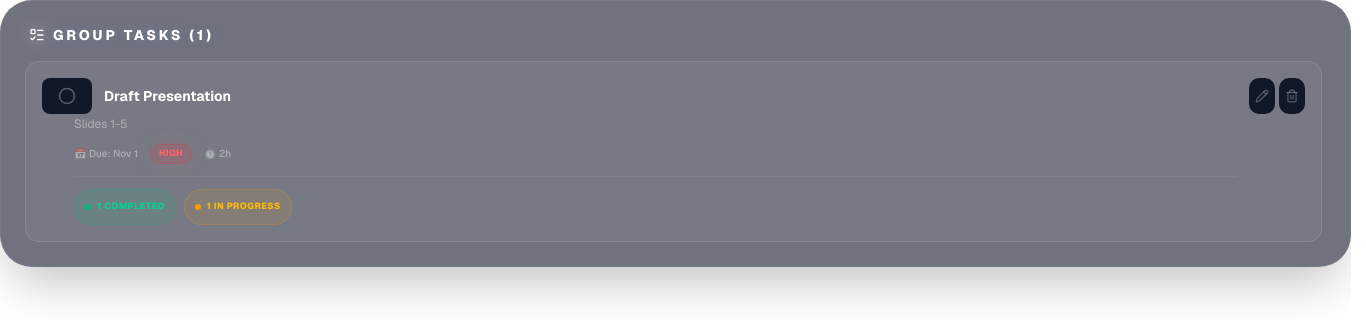
Test: GroupTasks › toggles member progress badges and handles name fallbacks
What coordinates should you click on to do the following:
click the button "1 completed"
I would click on:
 (125, 206)
Its box is [74,188,176,224].
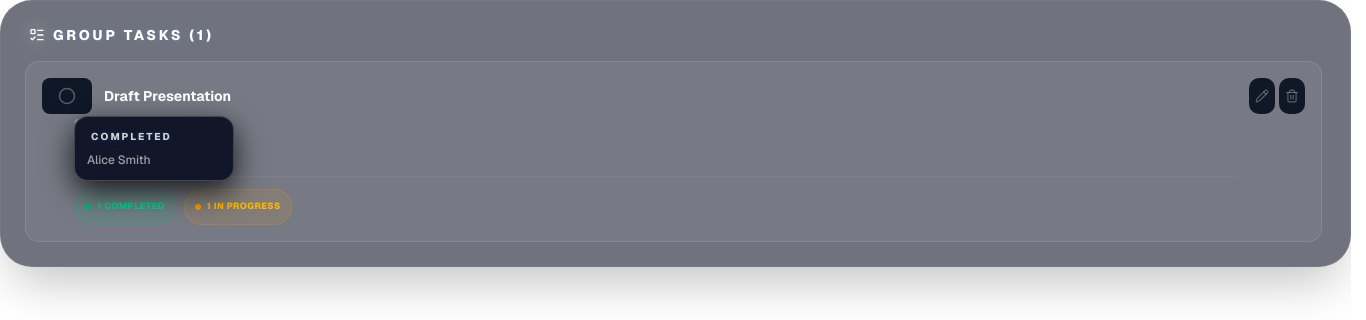
Expected: the list item "Alice Smith" is shown, [87,152,151,168]
What coordinates should you click on to do the following:
click the button "1 in progress"
I would click on:
 (238, 206)
Its box is [184,188,292,224].
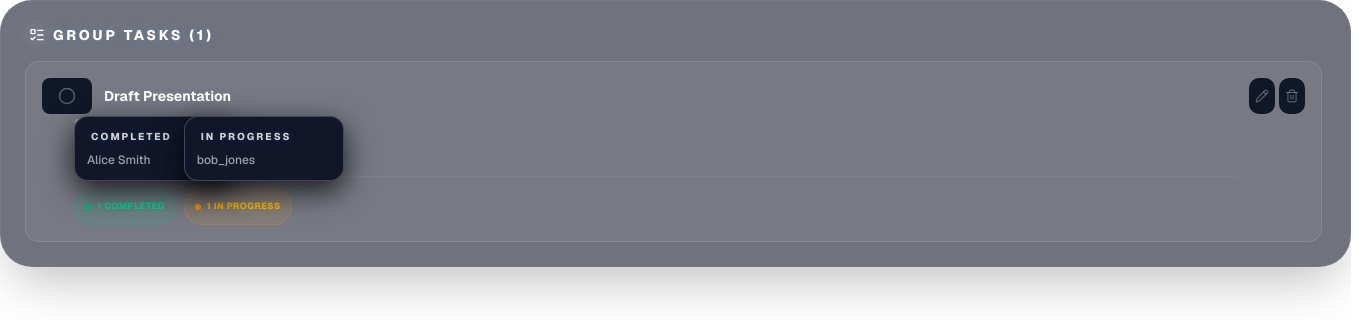
Expected: the list item "bob_jones" is shown, [197,152,255,168]
